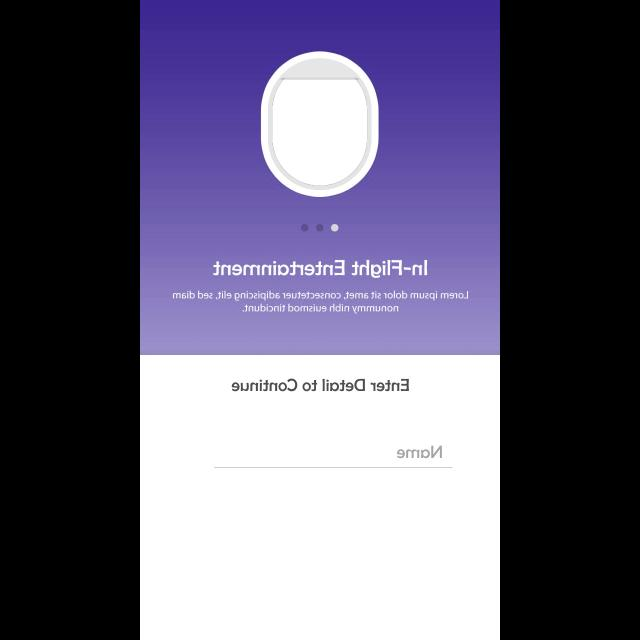image: (260, 52, 380, 198)
input: (214, 446, 452, 468)
pageindicator: (300, 223, 340, 233)
text: (172, 290, 468, 314), (212, 259, 428, 279), (231, 378, 409, 392), (396, 446, 442, 458)
